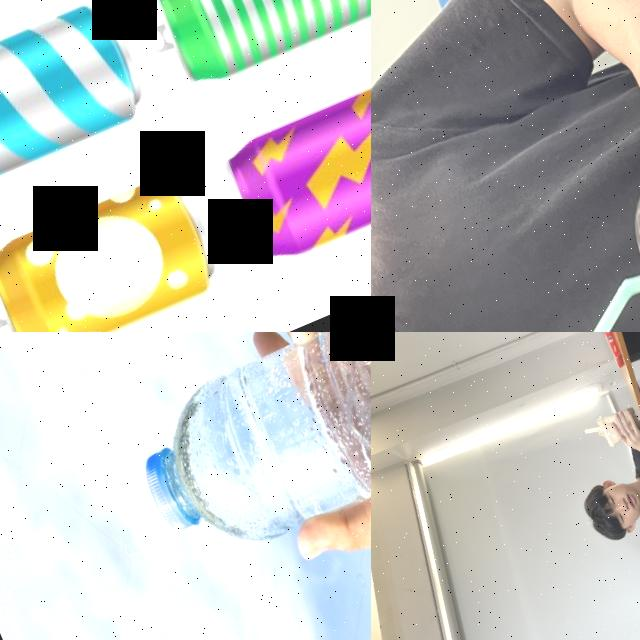bottle: (103, 332, 371, 583)
can: (0, 164, 230, 332), (215, 62, 371, 270), (0, 0, 156, 196), (139, 0, 371, 93)
cup: (590, 397, 640, 450)
